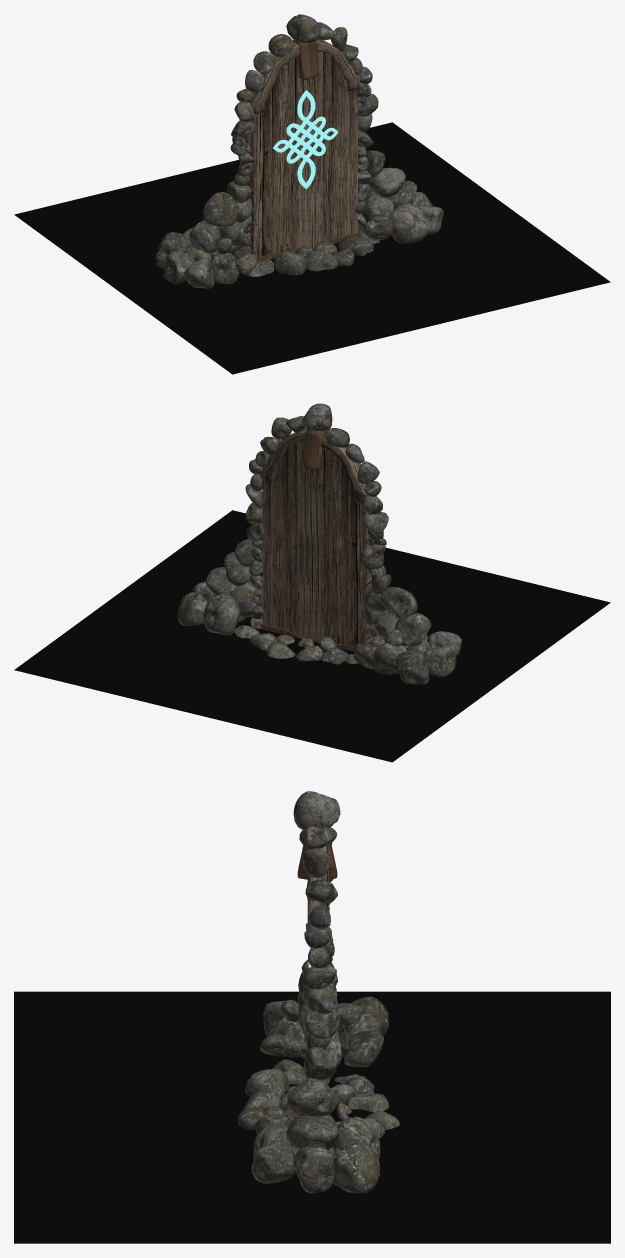
File: god_of_war_realm_between_realms_door.glb
3 renders of one model, top to bottom at view 1: azimuth 30°, elevation 25°; view 2: azimuth 150°, elevation 25°; view 3: azimuth 270°, elevation 25°, orthographic. The views are drawn at different scales.
Visible parts, largest first — view 1: Plane_10, Cube.005_8, Cube.003_6, Cube.007_9, Cube.002_2, Cube.006_3, Cube.004_7; view 2: Plane_10, Cube.003_6, Cube.005_8, Cube.007_9, Cube.004_7; view 3: Plane_10, Cube.005_8, Cube.007_9.
Boxes of the visible parts, x1,y1,x2,y2 form: Plane_10: (14,122,610,374); Cube.005_8: (155,14,443,288); Cube.003_6: (248,39,360,257); Cube.007_9: (243,232,379,276); Cube.002_2: (273,90,338,189); Cube.006_3: (286,116,325,163); Cube.004_7: (293,40,318,79); Plane_10: (14,510,610,762); Cube.003_6: (260,428,371,646); Cube.005_8: (177,403,461,684); Cube.007_9: (234,625,372,664); Cube.004_7: (302,428,327,470); Plane_10: (14,991,610,1243); Cube.005_8: (251,791,388,1193); Cube.007_9: (238,1059,399,1158).
Size of the model in its own units: 18.46 by 12.1 by 18.46.
Materials: 5 (3 with a texture image).
